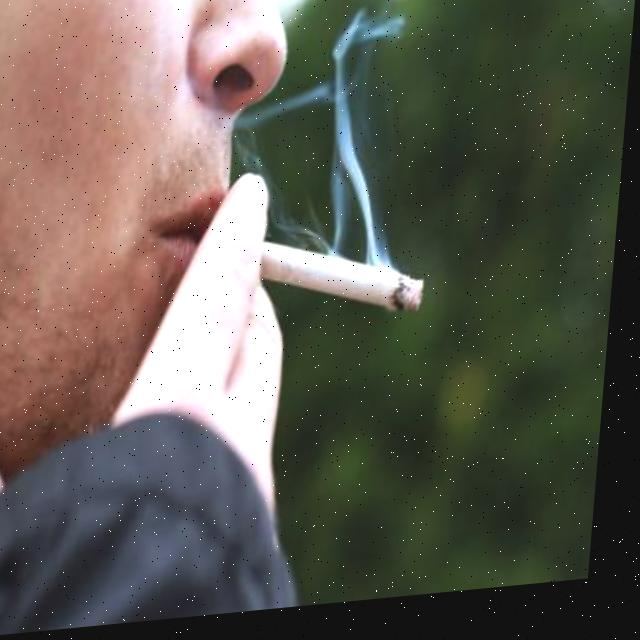cigarette: (260, 235, 430, 334)
